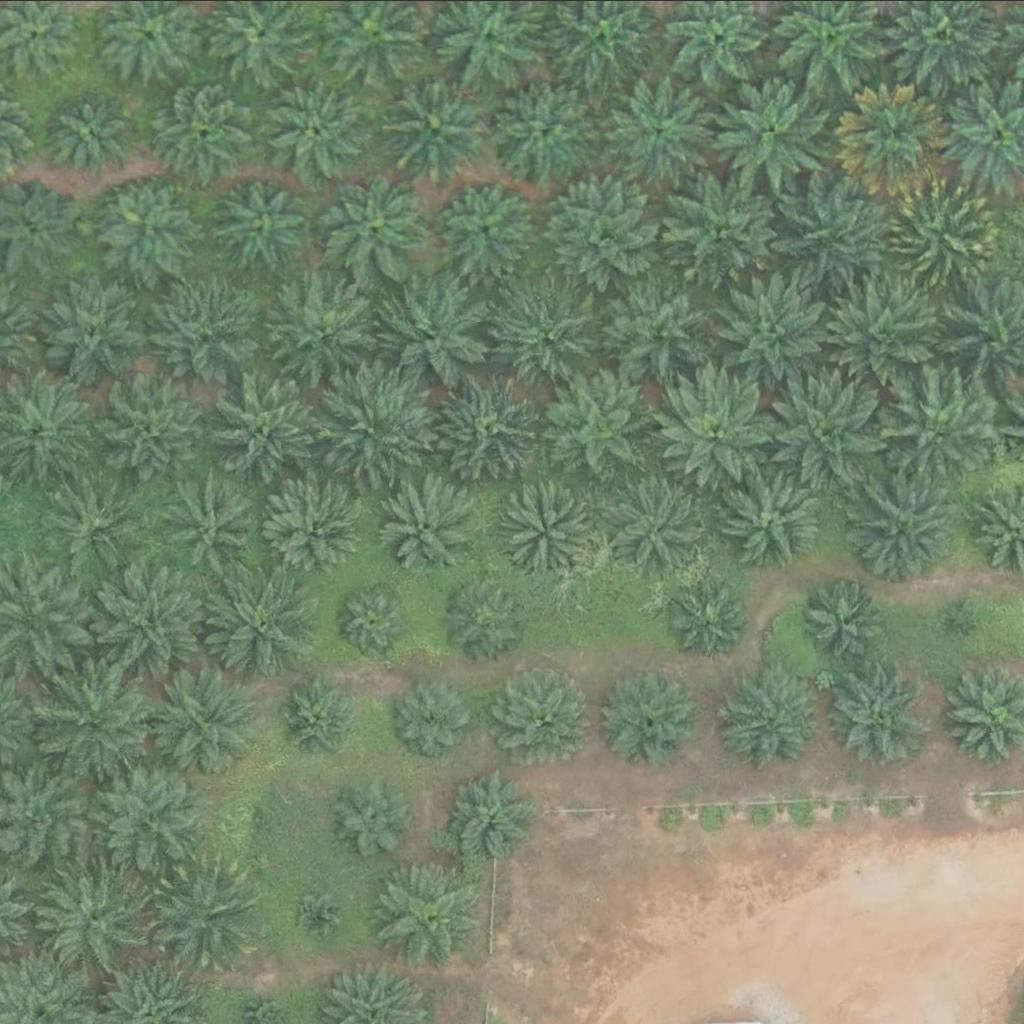Kelapa_Sawit: (195, 567, 309, 680), (36, 667, 150, 780), (846, 472, 960, 585), (35, 272, 148, 385), (145, 276, 258, 389), (99, 370, 212, 483), (146, 662, 259, 775), (317, 368, 430, 481), (434, 367, 547, 480), (265, 271, 378, 384), (379, 274, 492, 387), (490, 280, 603, 393), (605, 272, 718, 385), (545, 172, 658, 285), (659, 169, 772, 282), (777, 170, 890, 283), (838, 81, 951, 194), (887, 179, 1000, 292), (210, 371, 324, 483), (93, 562, 207, 674), (371, 858, 485, 970), (774, 373, 888, 485), (880, 370, 994, 482), (147, 859, 260, 971), (93, 756, 206, 868), (37, 861, 150, 973), (543, 373, 656, 485), (664, 374, 777, 486), (716, 271, 829, 383), (319, 168, 432, 280), (258, 73, 371, 185), (385, 66, 498, 178), (491, 73, 604, 185), (610, 73, 723, 185), (716, 76, 829, 188), (831, 282, 944, 394), (153, 79, 254, 179), (96, 173, 197, 273), (210, 176, 311, 276), (718, 672, 819, 772), (267, 480, 368, 580), (379, 474, 480, 574), (497, 479, 598, 579), (436, 174, 537, 274), (829, 664, 930, 764), (43, 476, 143, 576), (162, 472, 262, 572), (492, 662, 592, 762), (599, 667, 699, 767), (611, 469, 711, 569), (724, 467, 824, 567), (48, 87, 136, 175), (444, 765, 532, 853), (329, 772, 417, 859), (279, 673, 367, 760), (388, 676, 476, 763), (443, 574, 531, 661), (799, 576, 887, 663), (671, 581, 747, 656), (335, 583, 410, 658), (293, 891, 344, 941), (230, 794, 280, 844), (947, 600, 972, 625)
